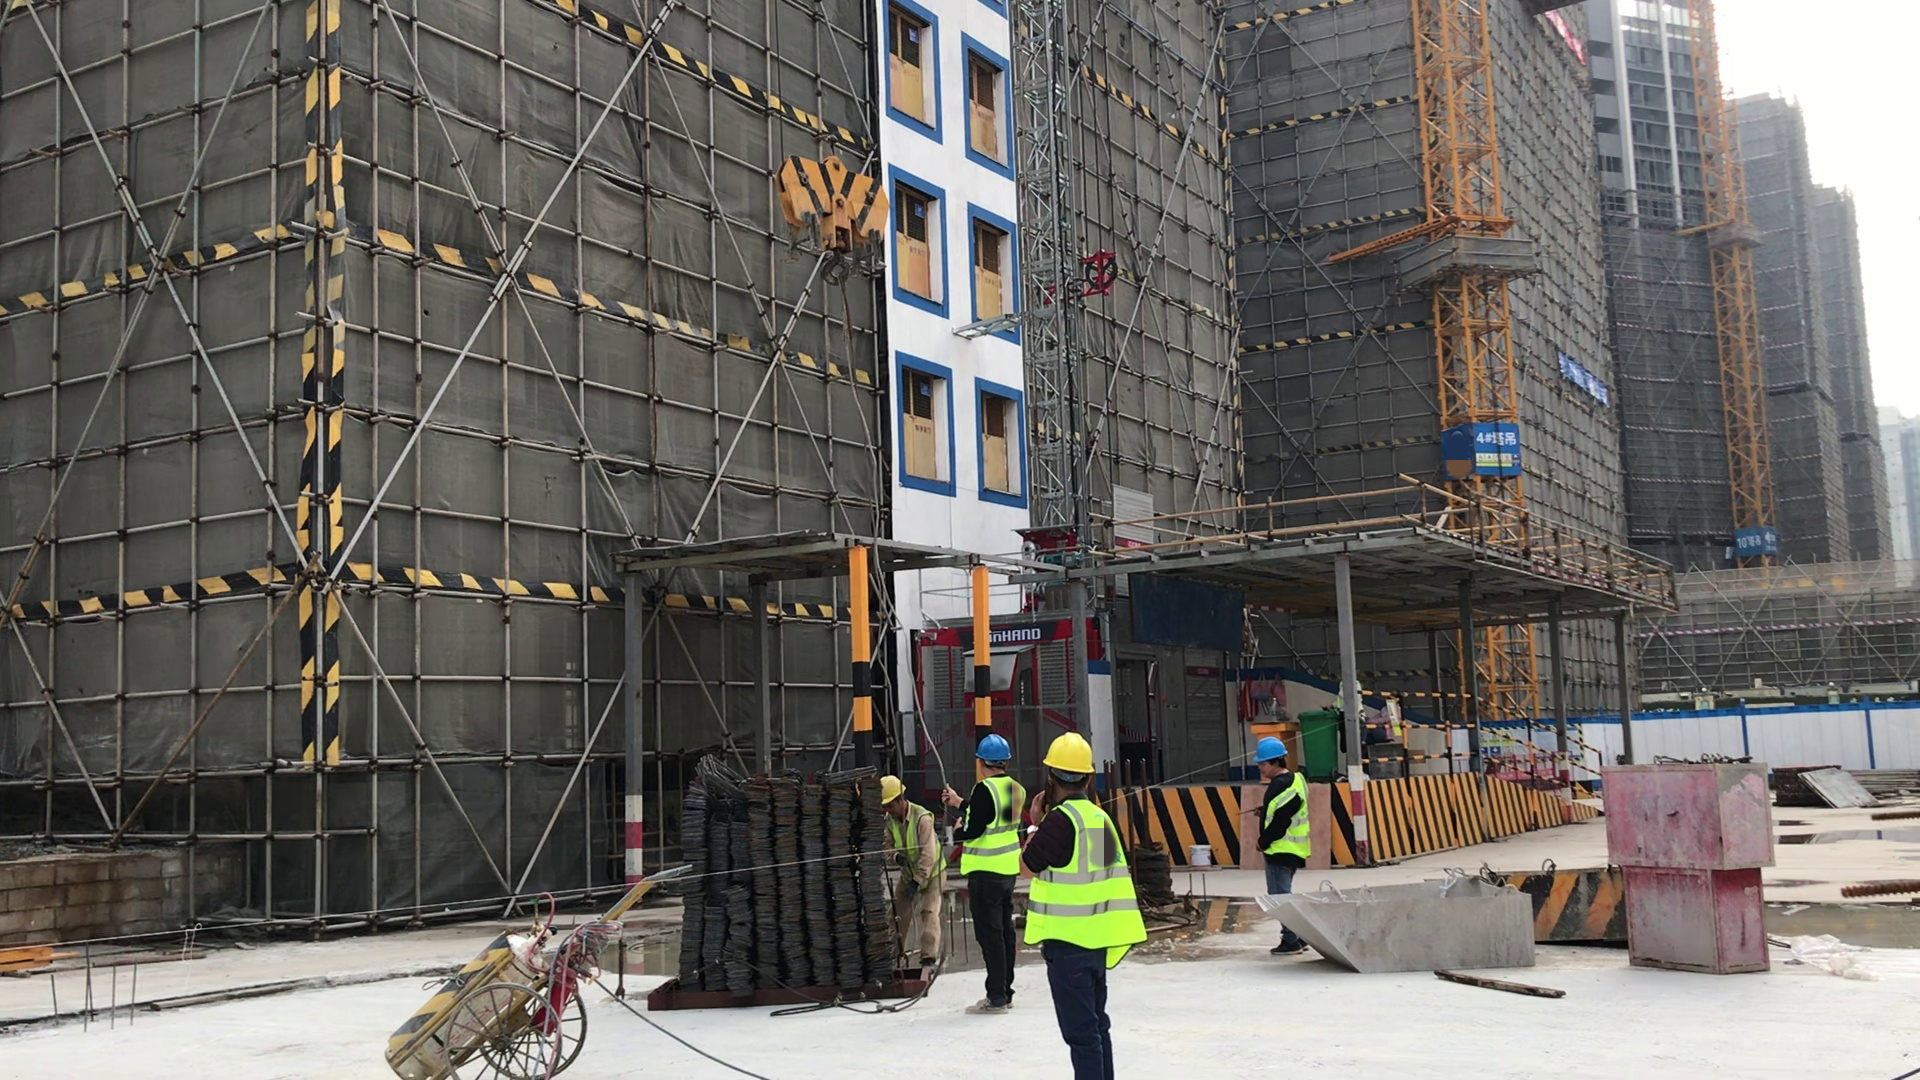fence: (1345, 673, 1615, 795)
handcart: (331, 853, 702, 1080)
helmet: (1044, 723, 1104, 791), (1247, 727, 1298, 776), (978, 724, 1020, 780), (877, 773, 919, 811)
hook: (744, 131, 942, 309)
hopper: (1249, 873, 1554, 1019)
person: (1015, 722, 1153, 1080), (950, 722, 1025, 1026), (1238, 727, 1319, 974), (873, 758, 951, 1008)
slogan: (1429, 414, 1534, 488), (1549, 346, 1622, 420), (1542, 5, 1595, 65), (1735, 507, 1782, 568), (1375, 693, 1410, 749)
vest: (1025, 803, 1151, 970), (960, 759, 1030, 889), (1259, 771, 1317, 869), (879, 807, 944, 892)
